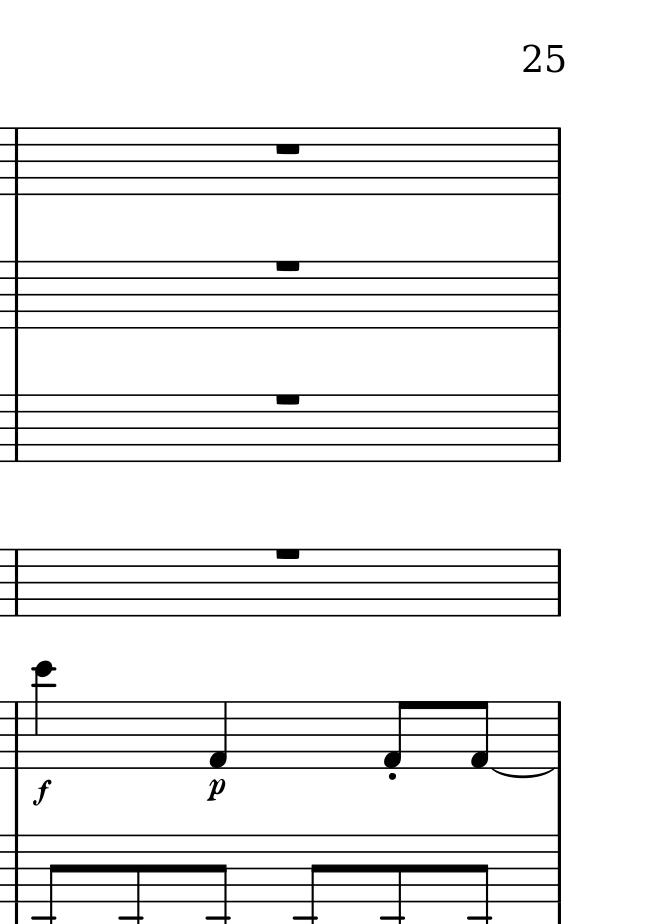2: (522, 42, 544, 75)
4_1: (208, 700, 229, 769)
4_12: (31, 658, 57, 771)
5: (545, 40, 566, 75)
8_1: (380, 698, 412, 772), (468, 698, 490, 775)
Rests1: (271, 545, 309, 564), (267, 257, 309, 274), (269, 390, 302, 406), (271, 142, 302, 157)
Single_barline: (7, 261, 26, 330), (549, 262, 567, 331), (548, 835, 566, 902), (549, 549, 567, 616), (549, 128, 566, 195), (549, 395, 566, 462), (8, 395, 25, 461), (8, 548, 24, 616), (8, 129, 25, 193), (9, 835, 25, 902), (10, 702, 24, 767)
Slur: (492, 769, 553, 779)
f: (32, 780, 57, 809)
p: (204, 776, 226, 807)
